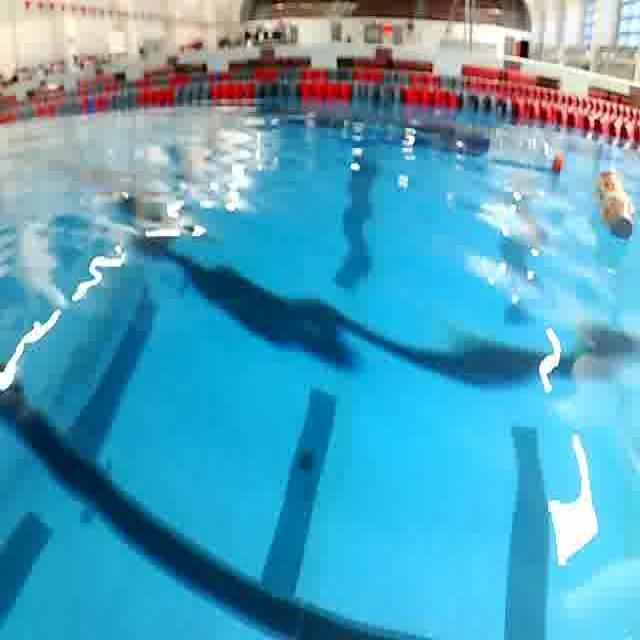Bottle: (483, 126, 568, 179), (591, 165, 640, 248)
